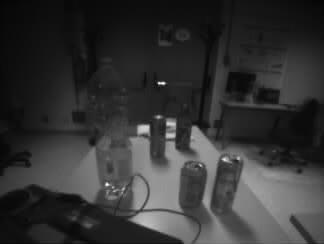Bottle: (92, 61, 134, 195), (176, 104, 191, 149)
Tin can: (212, 156, 239, 213), (181, 161, 205, 210), (150, 115, 165, 157)
